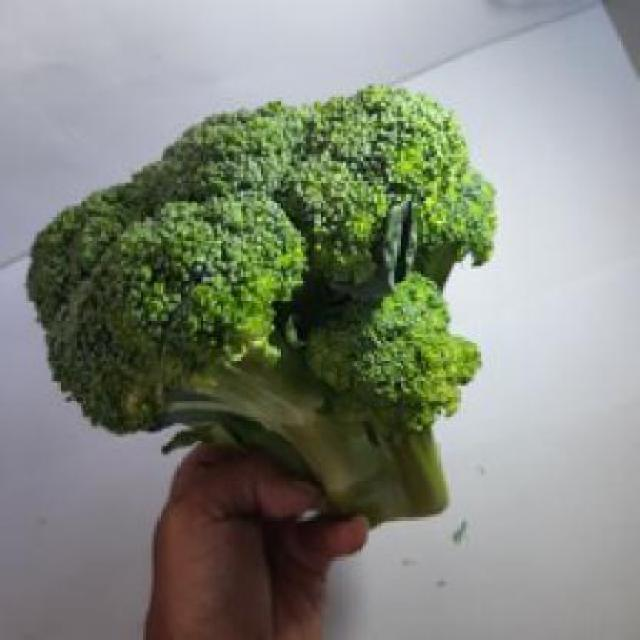broccoli: (26, 92, 492, 526)
